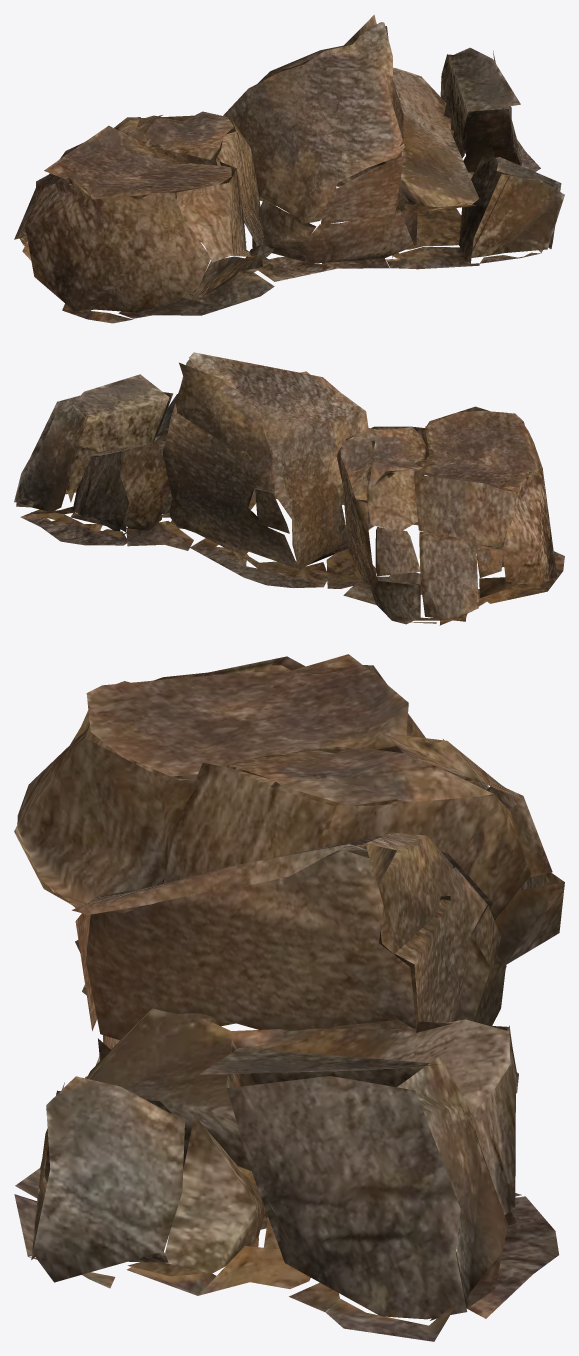
The model's file is boulder_a.glb.
3 renders of one model, top to bottom at view 1: azimuth 30°, elevation 25°; view 2: azimuth 150°, elevation 25°; view 3: azimuth 270°, elevation 25°, orthographic. The views are drawn at different scales.
Parts seen in each view (by area): view 1: boulder_02; view 2: boulder_02; view 3: boulder_02.
Boxes of the visible parts, x1=… form: boulder_02: x1=14, y1=14, x2=564, y2=323; boulder_02: x1=14, y1=352, x2=564, y2=625; boulder_02: x1=14, y1=654, x2=564, y2=1341.
Bounding box in the file's own units: 2.52 × 0.9004 × 1.22.
Materials: 1 (1 with a texture image).
